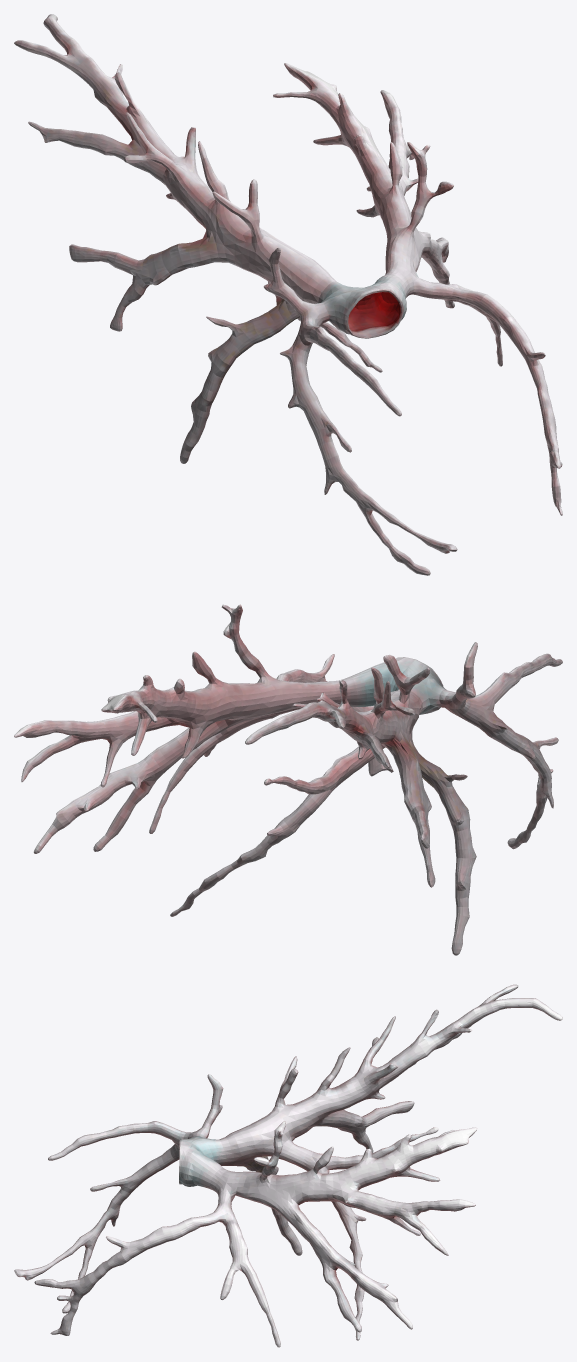
Rendered from bronchial_tree_filled_LOW.glb.
3 renders of one model, top to bottom at view 1: azimuth 30°, elevation 25°; view 2: azimuth 150°, elevation 25°; view 3: azimuth 270°, elevation 25°, orthographic. The views are drawn at different scales.
Visible parts, largest first — view 1: bronchial_tree_filled_LOW; view 2: bronchial_tree_filled_LOW; view 3: bronchial_tree_filled_LOW.
Part boxes in pixels (bbox=[...]): bronchial_tree_filled_LOW: bbox=[14, 14, 562, 575]; bronchial_tree_filled_LOW: bbox=[14, 604, 562, 955]; bronchial_tree_filled_LOW: bbox=[14, 984, 562, 1347].
Size of the model in its own units: 0.00359 by 0.00326 by 0.00571.
1 material, 1 textured.
